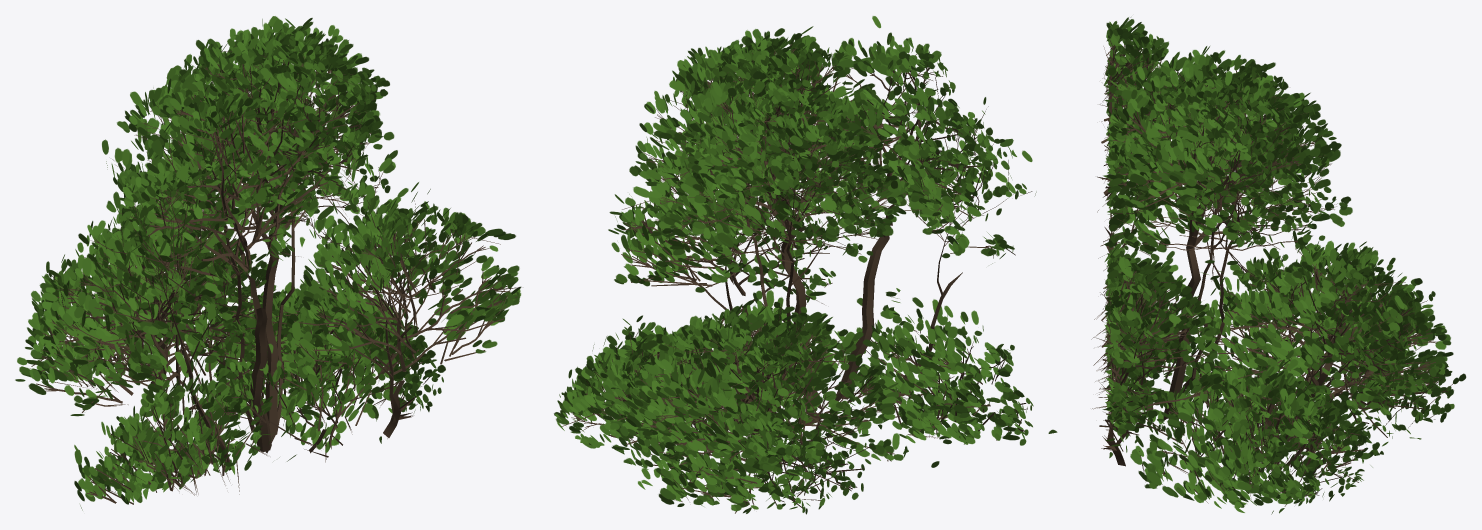
3 renders of one model, left to right at view 1: azimuth 30°, elevation 25°; view 2: azimuth 150°, elevation 25°; view 3: azimuth 270°, elevation 25°, orthographic. The views are drawn at different scales.
Visible parts, largest first — view 1: oak 01.001_trunk_Mat.001_0.311; view 2: oak 01.001_trunk_Mat.001_0.311; view 3: oak 01.001_trunk_Mat.001_0.311.
Boxes of the visible parts, <box> form: oak 01.001_trunk_Mat.001_0.311: <box>15,16,521,510</box>; oak 01.001_trunk_Mat.001_0.311: <box>554,16,1057,514</box>; oak 01.001_trunk_Mat.001_0.311: <box>1091,17,1466,514</box>.
Bounding box in the file's own units: 5.24 × 4.61 × 4.02.
Materials: 2 (1 with a texture image).
